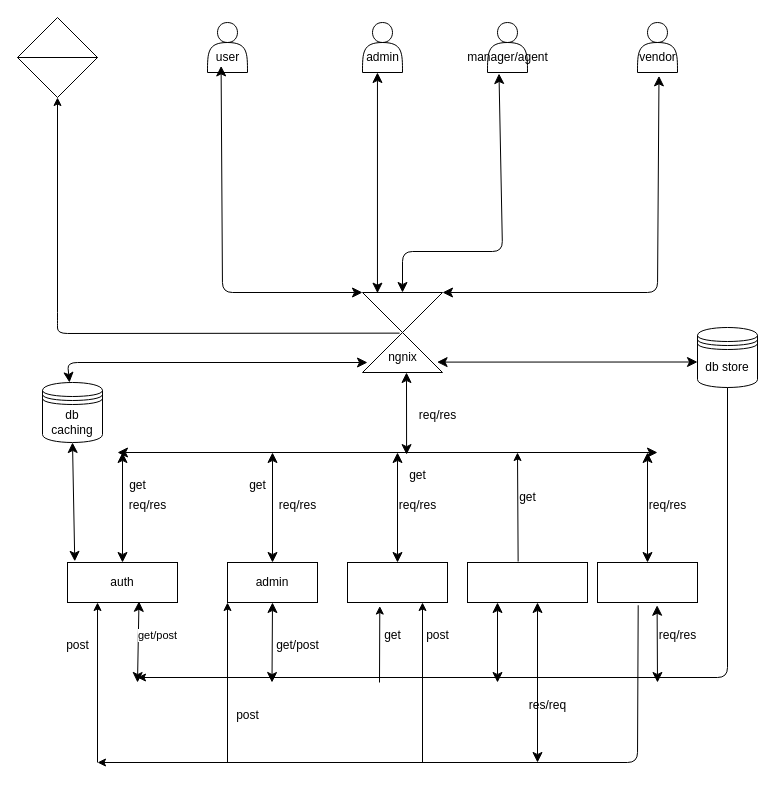
Image size: 775x791. Some labels were removed from this diagram. The centre of each missing label's shape, as x and y in pixels:
api-gateway: (647,582)
moniter: (57,57)
product-service: (527,582)
vendor/orders: (397,582)
